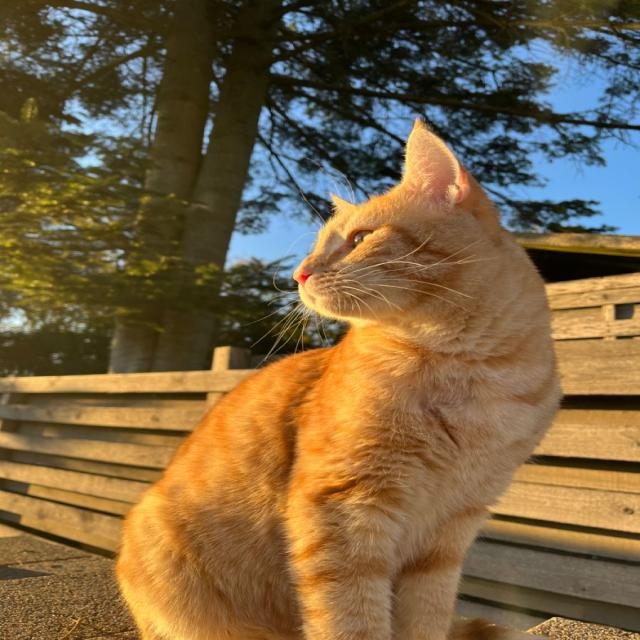sarman: (117, 121, 561, 639)
